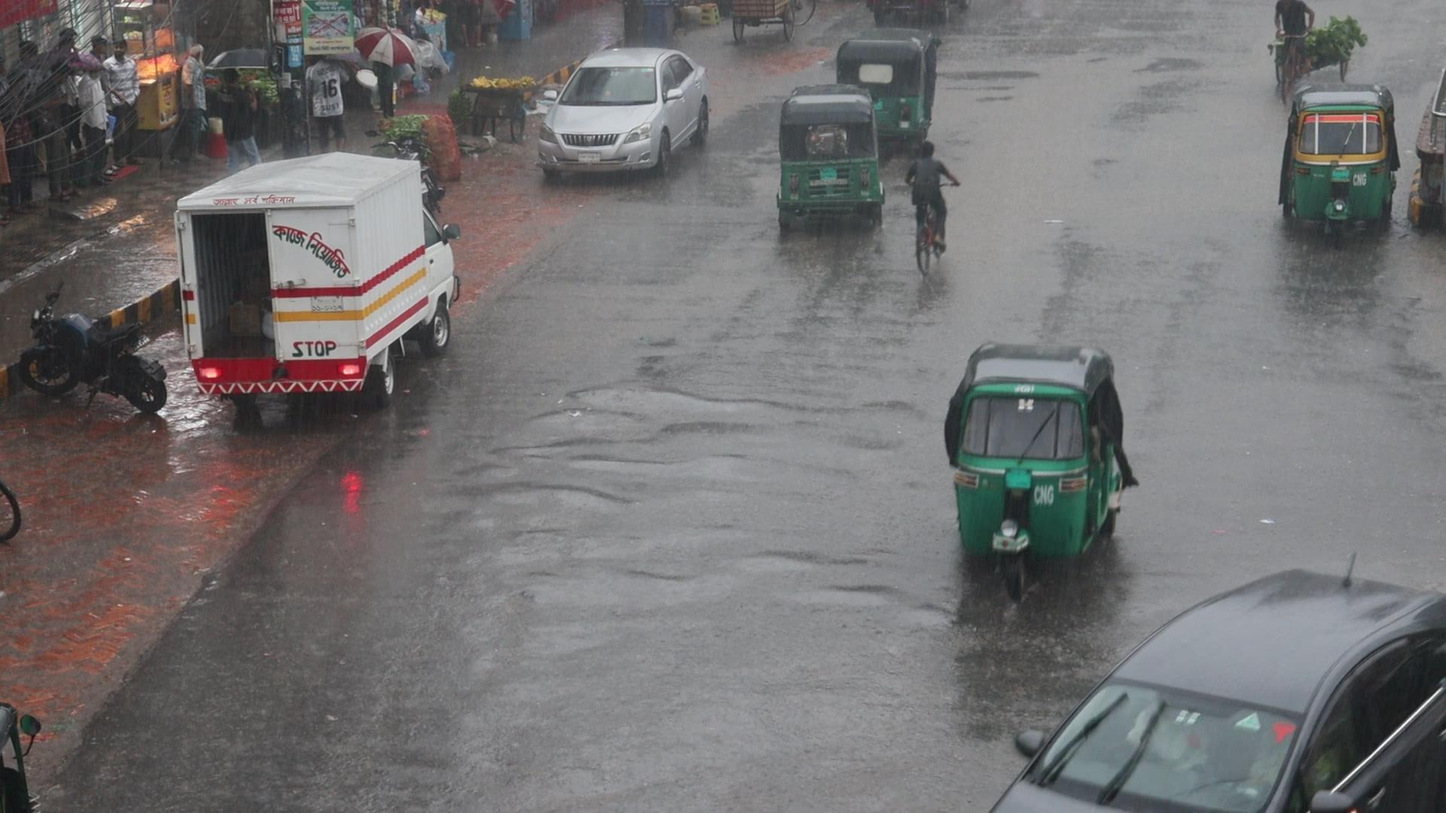Car: (988, 552, 1446, 813), (535, 47, 712, 178)
